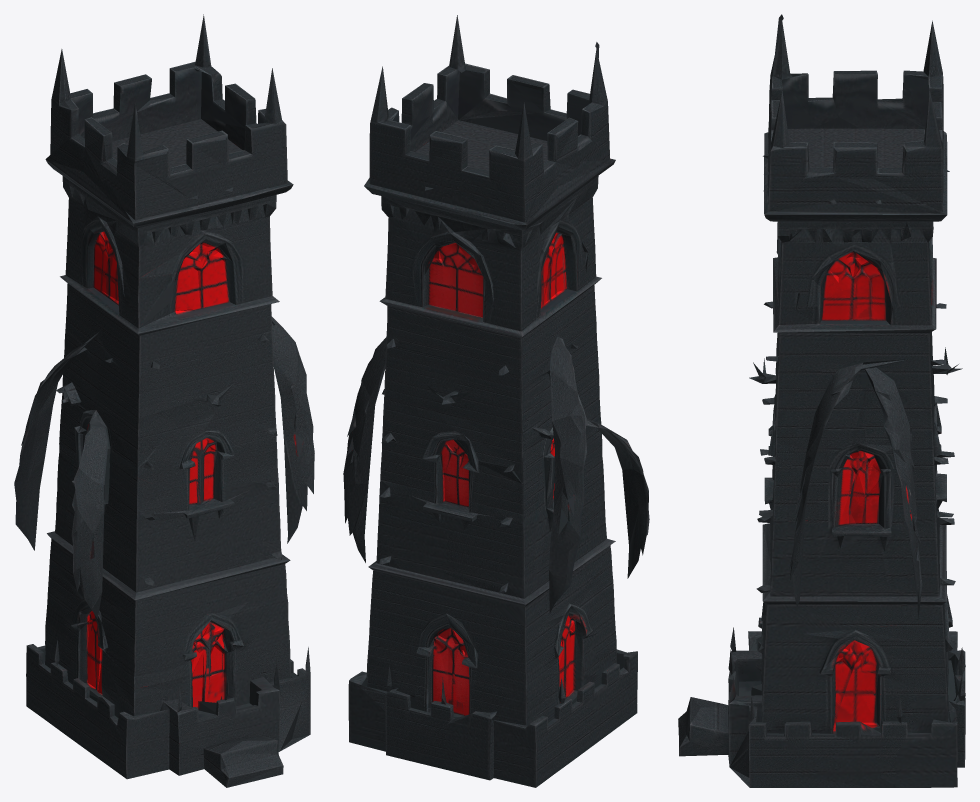
The model's file is kaine_tower.glb.
The picture shows the model from 3 angles, left to right: view 1: azimuth 30°, elevation 25°; view 2: azimuth 150°, elevation 25°; view 3: azimuth 270°, elevation 25°; orthographic projection. The views are drawn at different scales.
Size of the model in its own units: 0.7324 by 1.9 by 0.7148.
Materials: 1 (1 with a texture image).
